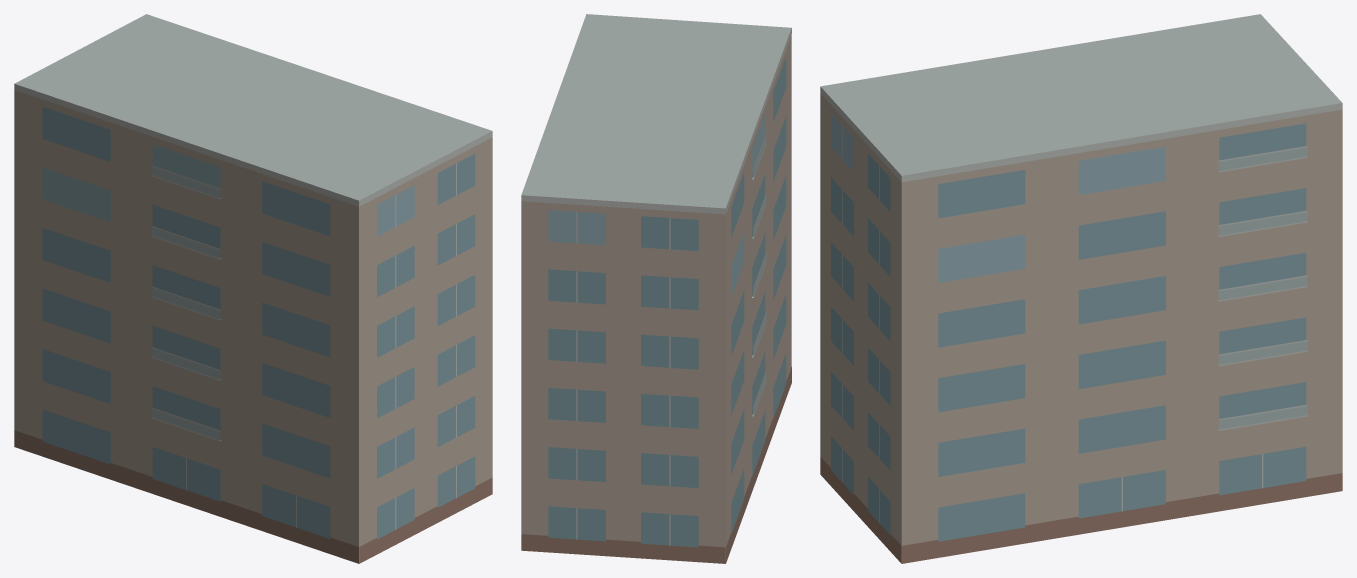
File: survey-upis-32884279.glb
3 views of the same model, side by side, from view 1: azimuth 30°, elevation 25°; view 2: azimuth 150°, elevation 25°; view 3: azimuth 270°, elevation 25° (orthographic). The views are drawn at different scales.
Visible parts, largest first — view 1: survey-upis-32884279.tmp; view 2: survey-upis-32884279.tmp; view 3: survey-upis-32884279.tmp.
Boxes of the visible parts, <box> form: survey-upis-32884279.tmp: <box>14,14,492,563</box>; survey-upis-32884279.tmp: <box>521,14,791,563</box>; survey-upis-32884279.tmp: <box>820,14,1342,563</box>.
Bounding box in the file's own units: 12.92 × 14.43 × 17.61.
